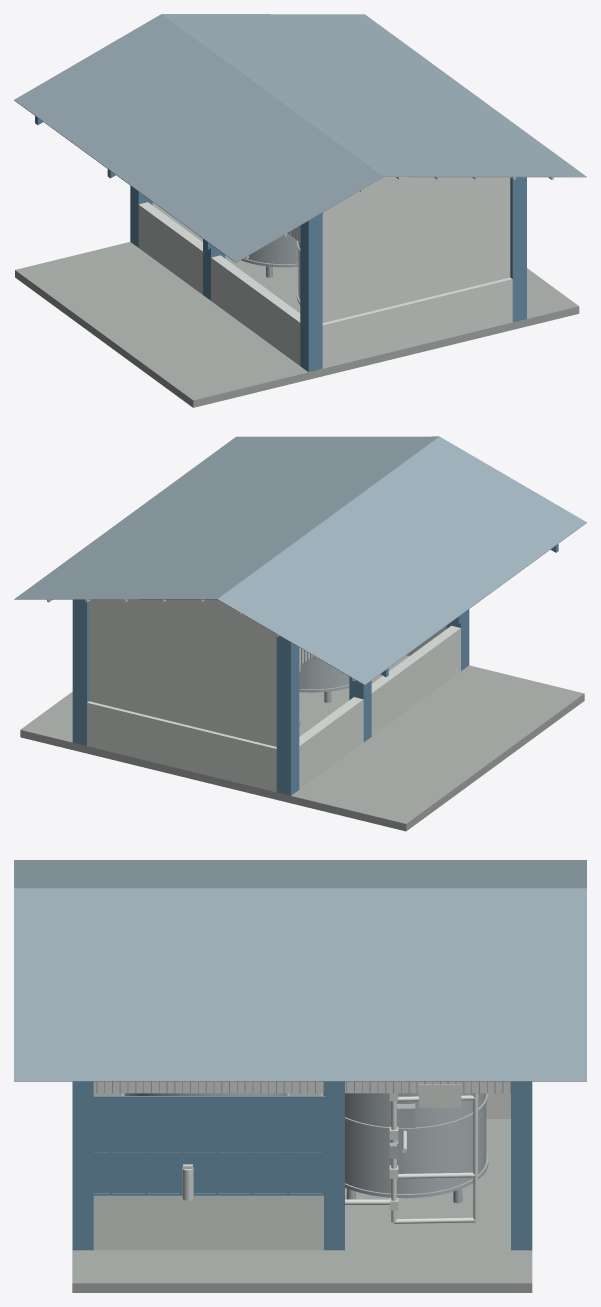
The model's file is bodega-pequena.glb.
The picture shows the model from 3 angles, top to bottom: view 1: azimuth 30°, elevation 25°; view 2: azimuth 150°, elevation 25°; view 3: azimuth 270°, elevation 25°; orthographic projection. The views are drawn at different scales.
Visible parts, largest first — view 1: Basic Roof VOCATUS Pequena - Lamina cubierta10mm repres_e969, Foundation Slab VOCATUS Pequena - Contrapiso150mm repre_35fa, VOCATUS Pequena - Cerramiento testero 6243,396 [1240622], Basic Wall VOCATUS Pequena - Muro200mm [1240605], Basic Wall VOCATUS Pequena - Muro200mm [1240603], VOCATUS Pequena - Columna 0-6178,396 [1240617], Basic Wall VOCATUS Pequena - Muro200mm [1240602], VOCATUS Pequena - Columna 4280-6178,396 [1240620], VOCATUS Pequena - Tanque filtro multimedia 1649,975 [1240692, VOCATUS Pequena - Columna 0-0 [1240615], VOCATUS Pequena - Columna 0-2638,396 [1240616]; view 2: Basic Roof VOCATUS Pequena - Lamina cubierta10mm repres_e969, Foundation Slab VOCATUS Pequena - Contrapiso150mm repre_35fa, VOCATUS Pequena - Cerramiento testero -65 [1240621], Basic Wall VOCATUS Pequena - Muro200mm [1240601], Basic Wall VOCATUS Pequena - Muro200mm [1240603], VOCATUS Pequena - Columna 0-0 [1240615], Basic Wall VOCATUS Pequena - Muro200mm [1240602], VOCATUS Pequena - Columna 4280-0 [1240618], VOCATUS Pequena - Tanque filtro multimedia 4449,975 [1240693, VOCATUS Pequena - Columna 0-2638,396 [1240616], VOCATUS Pequena - Columna 0-6178,396 [1240617]; view 3: Basic Roof VOCATUS Pequena - Lamina cubierta10mm repres_e969, Foundation Slab VOCATUS Pequena - Contrapiso150mm repre_35fa, VOCATUS Pequena - Cerramiento malla azul lateral [1240778], Basic Wall VOCATUS Pequena - Muro200mm [1240604], VOCATUS Pequena - Tanque filtro multimedia 1649,975 [1240692, VOCATUS Pequena - Cerramiento superior lados largos [1240623, VOCATUS Pequena - Columna 4280-0 [1240618], VOCATUS Pequena - Columna 4280-6178,396 [1240620], VOCATUS Pequena - Columna 4280-2638,396 [1240619], VOCATUS Pequena - Tuberias y accesorios visibles [1240781], VOCATUS Pequena - Placa Planta DM [1240784], VOCATUS Pequena - Acanalado lamina superior [1240779] (+1 smaller).
Part boxes in pixels (bbox=[...]): Basic Roof VOCATUS Pequena - Lamina cubierta10mm repres_e969: bbox=[14, 14, 586, 262]; Foundation Slab VOCATUS Pequena - Contrapiso150mm repre_35fa: bbox=[15, 231, 579, 407]; VOCATUS Pequena - Cerramiento testero 6243,396 [1240622]: bbox=[322, 177, 510, 322]; Basic Wall VOCATUS Pequena - Muro200mm [1240605]: bbox=[322, 277, 512, 368]; Basic Wall VOCATUS Pequena - Muro200mm [1240603]: bbox=[211, 255, 300, 365]; VOCATUS Pequena - Columna 0-6178,396 [1240617]: bbox=[300, 213, 322, 372]; Basic Wall VOCATUS Pequena - Muro200mm [1240602]: bbox=[138, 202, 202, 294]; VOCATUS Pequena - Columna 4280-6178,396 [1240620]: bbox=[510, 177, 526, 322]; VOCATUS Pequena - Tanque filtro multimedia 1649,975 [1240692: bbox=[241, 234, 298, 277]; VOCATUS Pequena - Columna 0-0 [1240615]: bbox=[130, 186, 152, 247]; VOCATUS Pequena - Columna 0-2638,396 [1240616]: bbox=[203, 239, 225, 300]; Basic Roof VOCATUS Pequena - Lamina cubierta10mm repres_e969: bbox=[14, 436, 586, 685]; Foundation Slab VOCATUS Pequena - Contrapiso150mm repre_35fa: bbox=[20, 655, 584, 831]; VOCATUS Pequena - Cerramiento testero -65 [1240621]: bbox=[89, 599, 276, 746]; Basic Wall VOCATUS Pequena - Muro200mm [1240601]: bbox=[87, 701, 276, 792]; Basic Wall VOCATUS Pequena - Muro200mm [1240603]: bbox=[371, 625, 460, 736]; VOCATUS Pequena - Columna 0-0 [1240615]: bbox=[276, 636, 299, 795]; Basic Wall VOCATUS Pequena - Muro200mm [1240602]: bbox=[299, 697, 363, 789]; VOCATUS Pequena - Columna 4280-0 [1240618]: bbox=[72, 599, 88, 745]; VOCATUS Pequena - Tanque filtro multimedia 4449,975 [1240693: bbox=[299, 656, 349, 702]; VOCATUS Pequena - Columna 0-2638,396 [1240616]: bbox=[349, 676, 371, 742]; VOCATUS Pequena - Columna 0-6178,396 [1240617]: bbox=[446, 609, 469, 670]; Basic Roof VOCATUS Pequena - Lamina cubierta10mm repres_e969: bbox=[14, 860, 586, 1081]; Foundation Slab VOCATUS Pequena - Contrapiso150mm repre_35fa: bbox=[72, 1082, 532, 1292]; VOCATUS Pequena - Cerramiento malla azul lateral [1240778]: bbox=[93, 1096, 325, 1195]; Basic Wall VOCATUS Pequena - Muro200mm [1240604]: bbox=[93, 1195, 323, 1250]; VOCATUS Pequena - Tanque filtro multimedia 1649,975 [1240692: bbox=[321, 1093, 488, 1203]; VOCATUS Pequena - Cerramiento superior lados largos [1240623: bbox=[93, 1081, 510, 1093]; VOCATUS Pequena - Columna 4280-0 [1240618]: bbox=[511, 1081, 532, 1250]; VOCATUS Pequena - Columna 4280-6178,396 [1240620]: bbox=[72, 1081, 93, 1250]; VOCATUS Pequena - Columna 4280-2638,396 [1240619]: bbox=[324, 1081, 344, 1250]; VOCATUS Pequena - Tuberias y accesorios visibles [1240781]: bbox=[345, 1093, 477, 1223]; VOCATUS Pequena - Placa Planta DM [1240784]: bbox=[419, 1084, 461, 1107]; VOCATUS Pequena - Acanalado lamina superior [1240779]: bbox=[96, 1081, 510, 1093].
Size of the model in its own units: 8.1 by 4.3 by 8.07.
